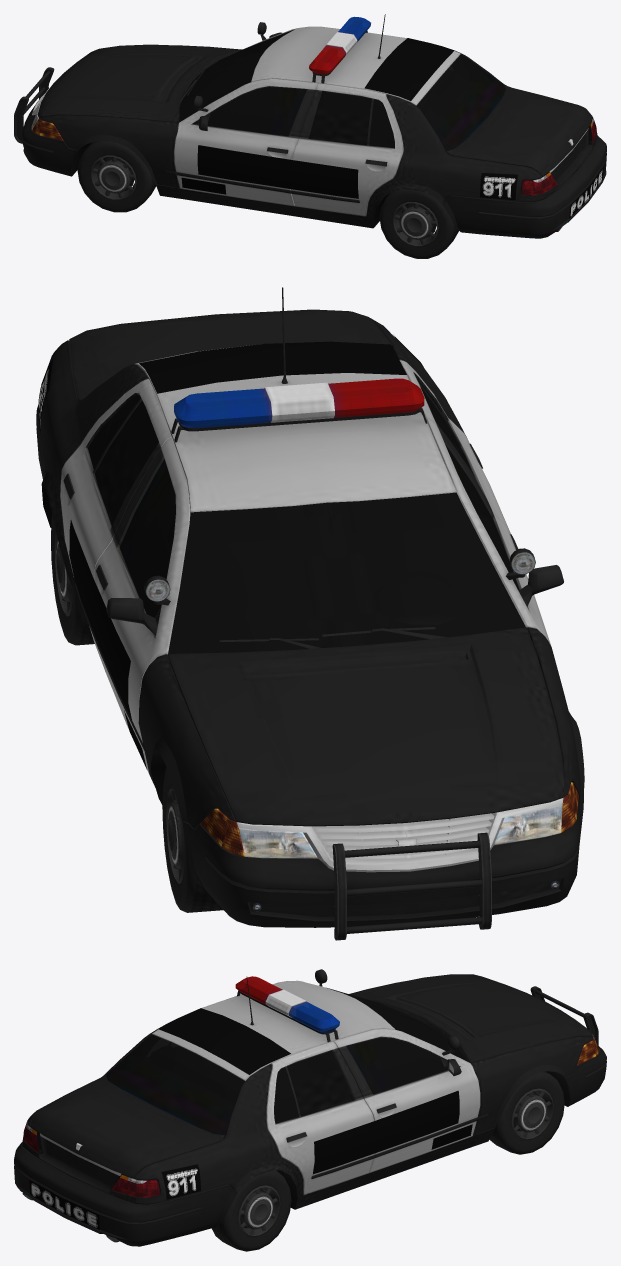
File: veh-patrullero.glb
3 renders of one model, top to bottom at view 1: azimuth 30°, elevation 25°; view 2: azimuth 150°, elevation 25°; view 3: azimuth 270°, elevation 25°, orthographic. The views are drawn at different scales.
Parts seen in each view (by area): view 1: police_sedan; view 2: police_sedan; view 3: police_sedan.
Boxes of the visible parts, x1=… form: police_sedan: x1=14, y1=14, x2=606, y2=258; police_sedan: x1=36, y1=287, x2=584, y2=940; police_sedan: x1=14, y1=969, x2=606, y2=1251.
Bounding box in the file's own units: 4.2 × 1.88 × 4.62.
5 materials, 5 textured.
